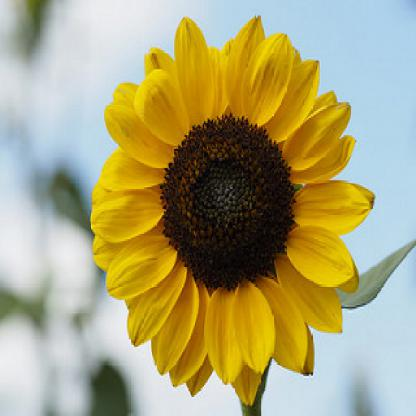SUN FLOWER: (62, 6, 402, 405)
